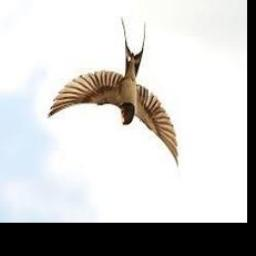Swallow: (49, 17, 180, 167)
